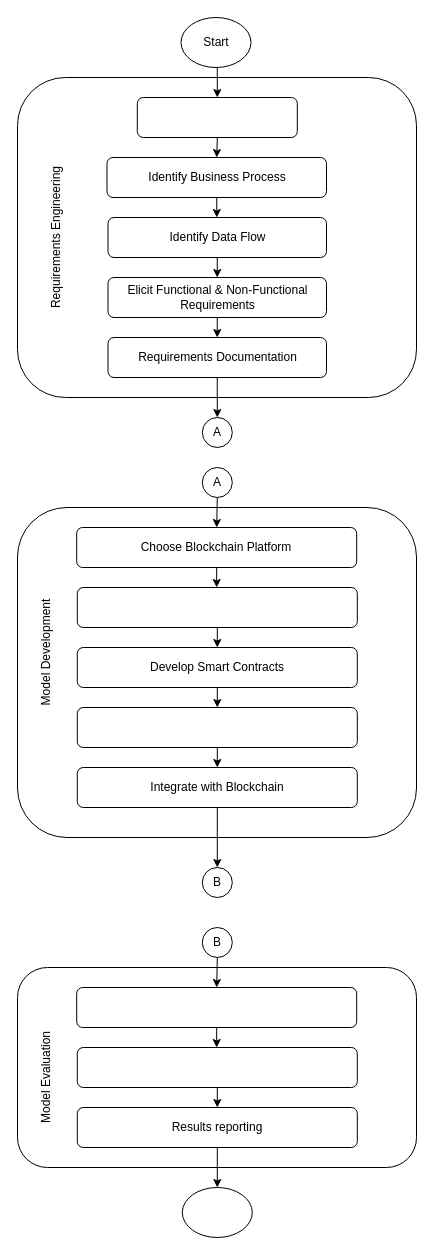
Some shapes in this 434 by 1255 pixel diagram are drawn without their labels. Here are the shapes that lost their labels. From the top down, the centre of each, then its label:
[216,117]: Identify Stakeholders
[216,607]: Smart Contract Design
[216,727]: Deploy Smart Contracts
[216,1007]: Model testing
[216,1067]: Performance Evaluation
[216,1212]: End
